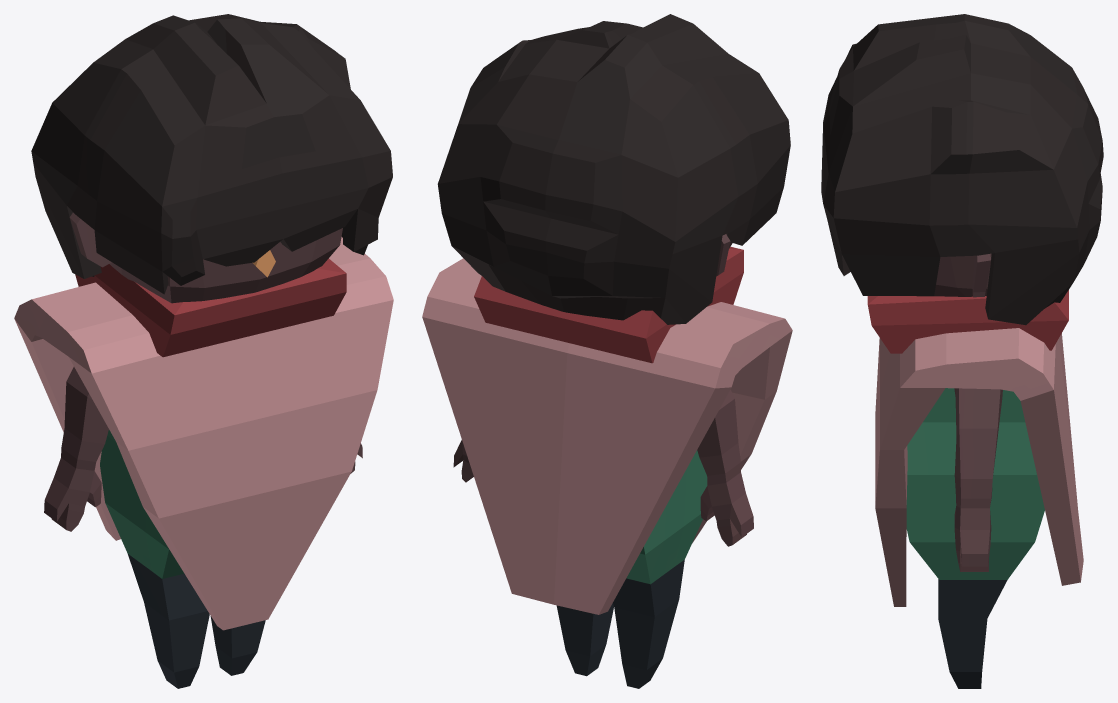
File: Boy 1.fbx
The picture shows the model from 3 angles, left to right: view 1: azimuth 30°, elevation 25°; view 2: azimuth 150°, elevation 25°; view 3: azimuth 270°, elevation 25°; orthographic projection. The views are drawn at different scales.
Visible parts, largest first — view 1: Manto; view 2: Manto; view 3: Manto.
Part boxes in pixels (x1,y1,x2,y2): Manto: [14, 14, 393, 688]; Manto: [422, 14, 792, 688]; Manto: [821, 14, 1103, 688].
Bounding box in the file's own units: 107 × 222 × 87.9.
